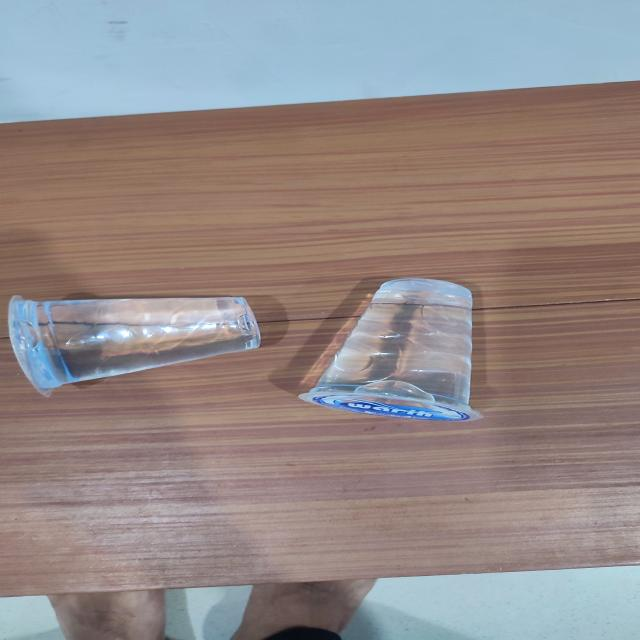air gelas: (295, 273, 495, 425), (1, 292, 276, 395)
